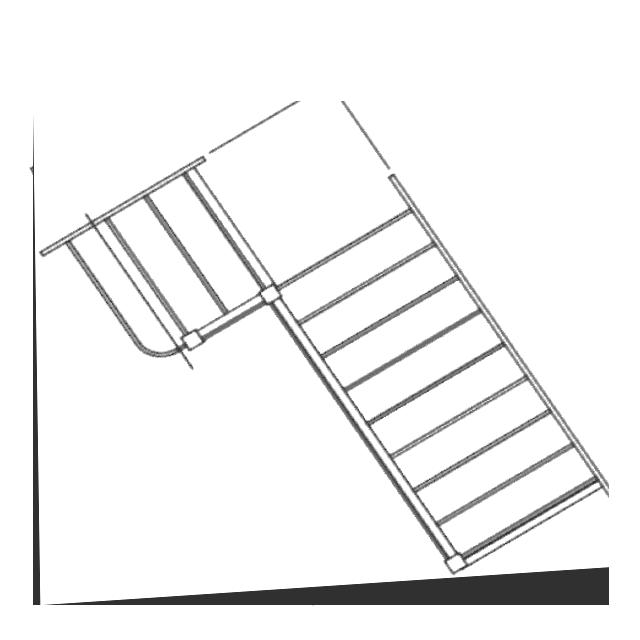stair: (33, 101, 609, 605)
